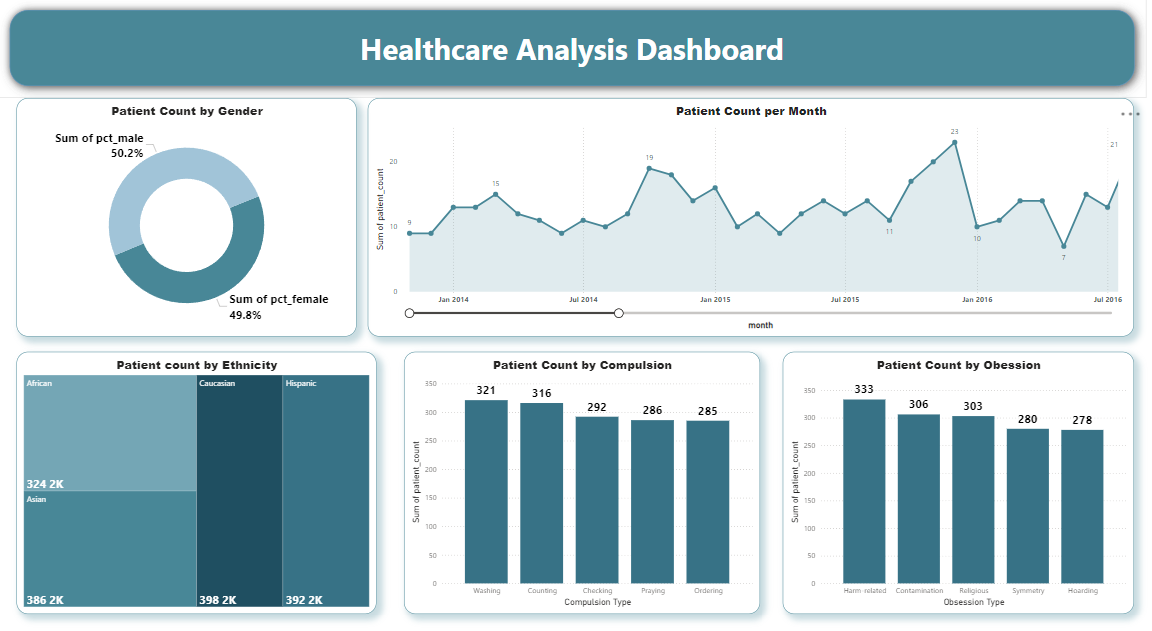

This screenshot's page, from the dashboard's own definition file:
{"tool":"powerbi","page":{"name":"Dashboard","canvas":[1920,1080],"ordinal":0},"visuals":[{"type":"textbox","box":[10,0,280,280],"z":0},{"type":"shape","title":"fdgfd","box":[14.4,16.5,1891.6,164.7],"z":1000},{"type":"lineChart","title":"Patient Count per Month","fields":{"Y":["Sum(MoM_diagnised.patient_count)"],"Category":["MoM_diagnised.month"]},"box":[623.7,181.1,1261.8,393.1],"z":2000},{"type":"donutChart","title":"Patient Count by Gender","fields":{"Y":["Sum(gender_type.pct_female)","Sum(gender_type.pct_male)"]},"box":[45.3,181.1,559.9,393.1],"z":3000},{"type":"treemap","title":"Patient count by Ethnicity","fields":{"Group":["ethnicity.Ethnicity"],"Details":["ethnicity.patient_count"],"Values":["Sum(obs_type.patient_count)"]},"box":[45.3,599,592.8,432.2],"z":4000},{"type":"columnChart","title":"Patient Count by Compulsion","fields":{"Category":["compulsion_type.Compulsion Type"],"Y":["Sum(compulsion_type.patient_count)"]},"box":[683.4,599,586.6,432.2],"z":5000},{"type":"columnChart","title":"Patient Count by Obession","fields":{"Category":["obs_type.Obsession Type"],"Y":["Sum(obs_type.patient_count)"]},"box":[1307,599,578.4,432.2],"z":6000}]}

Visuals, with their boxes in screenshot pixels (x1, y1, x2, y2), scaled from the page's 1920x1080 canvas onto the 1152x631 screenshot:
textbox: 6 0 174 164
"fdgfd" shape: 9 10 1144 106
"Patient Count per Month" lineChart: 374 106 1131 335
"Patient Count by Gender" donutChart: 27 106 363 335
"Patient count by Ethnicity" treemap: 27 350 383 602
"Patient Count by Compulsion" columnChart: 410 350 762 602
"Patient Count by Obession" columnChart: 784 350 1131 602
